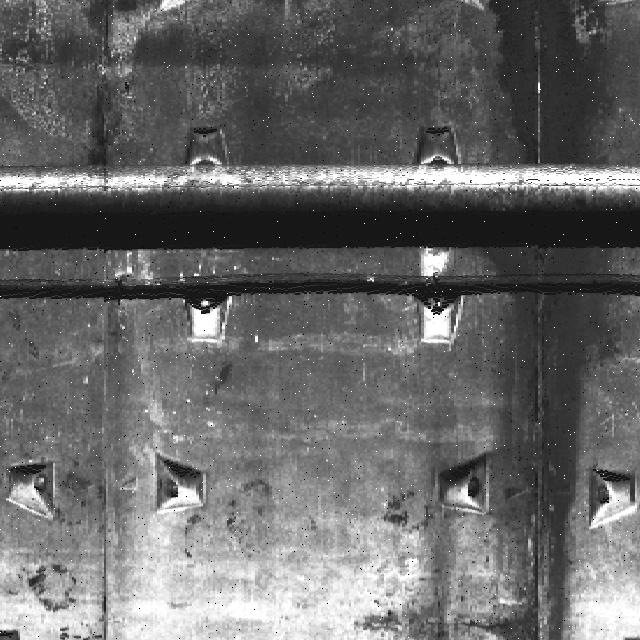leakage: (473, 252, 606, 640), (481, 4, 622, 172)
